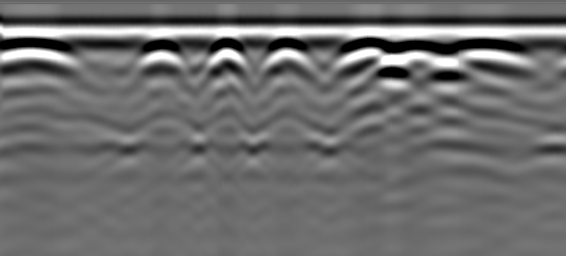steel: (447, 38, 536, 71), (3, 34, 74, 74), (258, 38, 318, 81), (387, 37, 447, 73), (337, 34, 386, 71), (136, 40, 182, 75), (207, 40, 245, 75)
